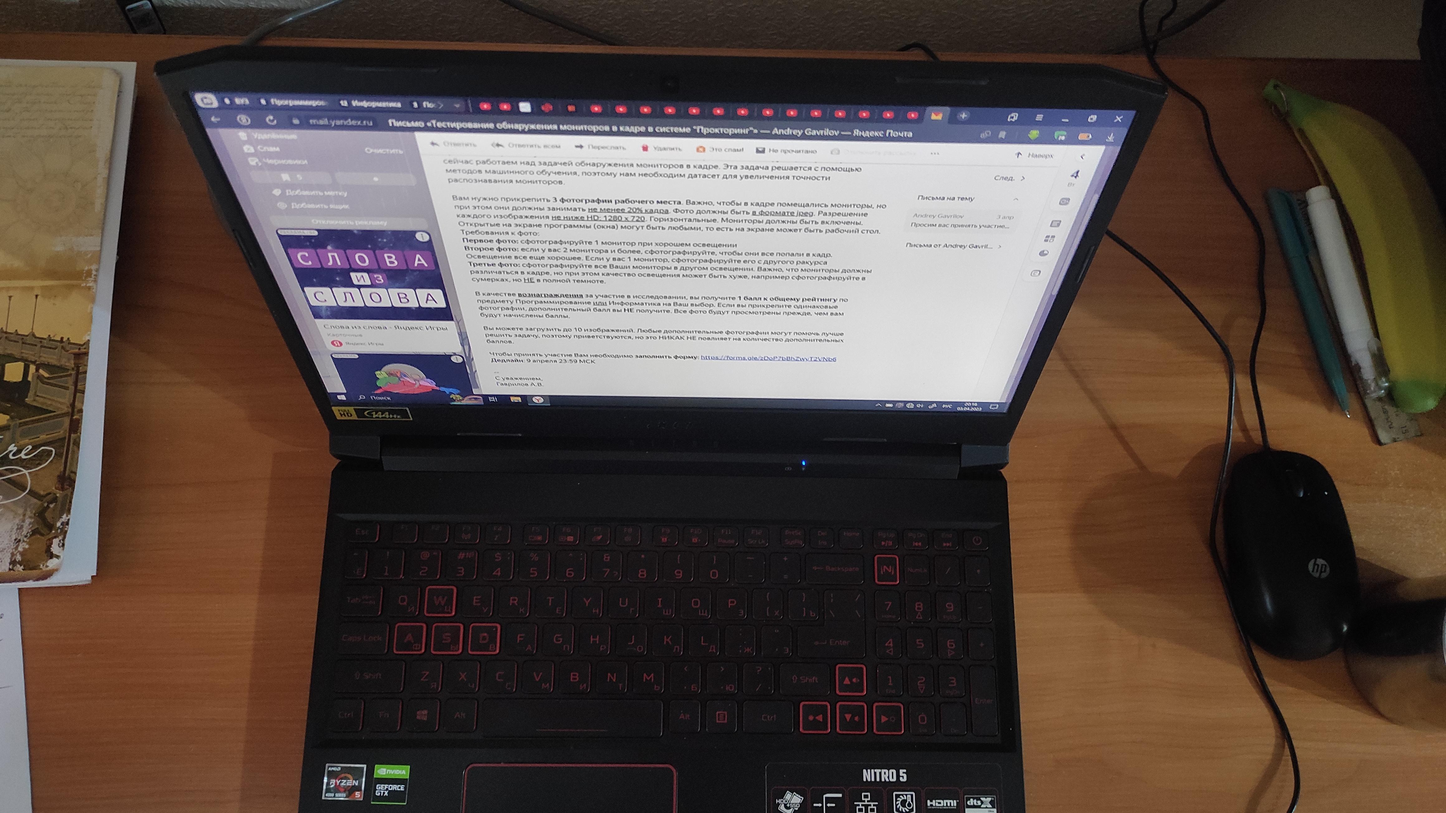monitor: (153, 40, 1164, 464)
